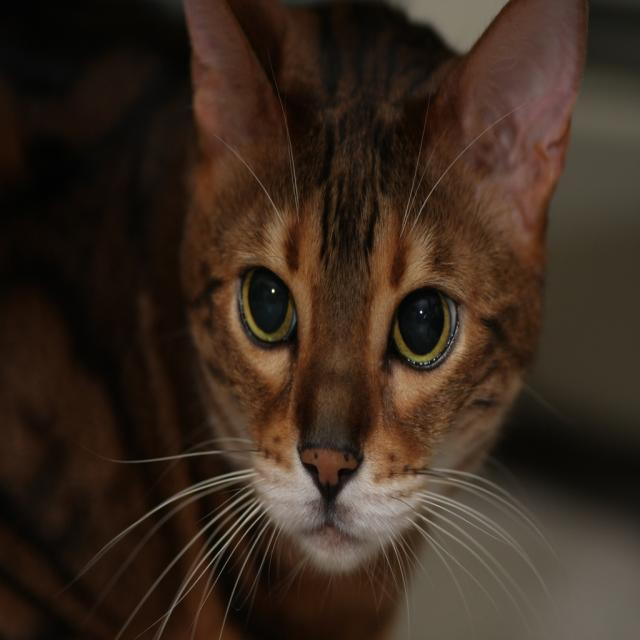Cat: (0, 0, 611, 639)
